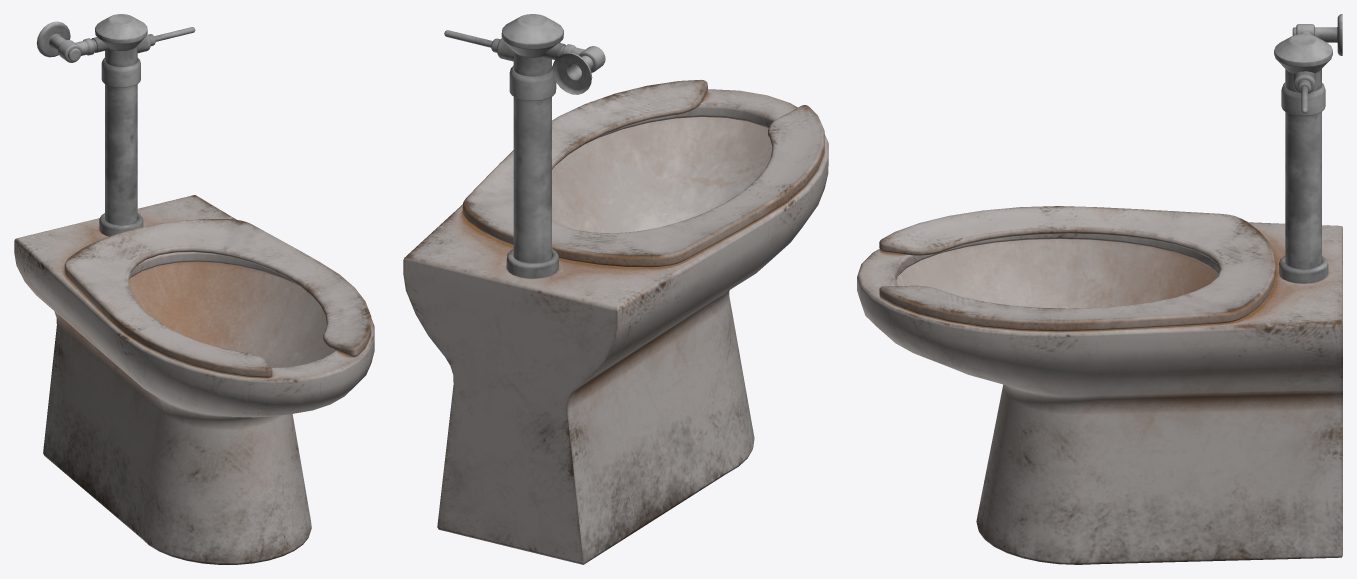
The model's file is Dirty Public Toilet.glb.
The picture shows the model from 3 angles, left to right: view 1: azimuth 30°, elevation 25°; view 2: azimuth 150°, elevation 25°; view 3: azimuth 270°, elevation 25°; orthographic projection. The views are drawn at different scales.
Parts seen in each view (by area): view 1: pCylinder18; view 2: pCylinder18; view 3: pCylinder18.
Boxes of the visible parts, x1=… form: pCylinder18: x1=14, y1=14, x2=374, y2=564; pCylinder18: x1=403, y1=14, x2=828, y2=564; pCylinder18: x1=857, y1=14, x2=1342, y2=564.
Bounding box in the file's own units: 0.538 × 1.02 × 0.9213.
Materials: 2 (2 with a texture image).
